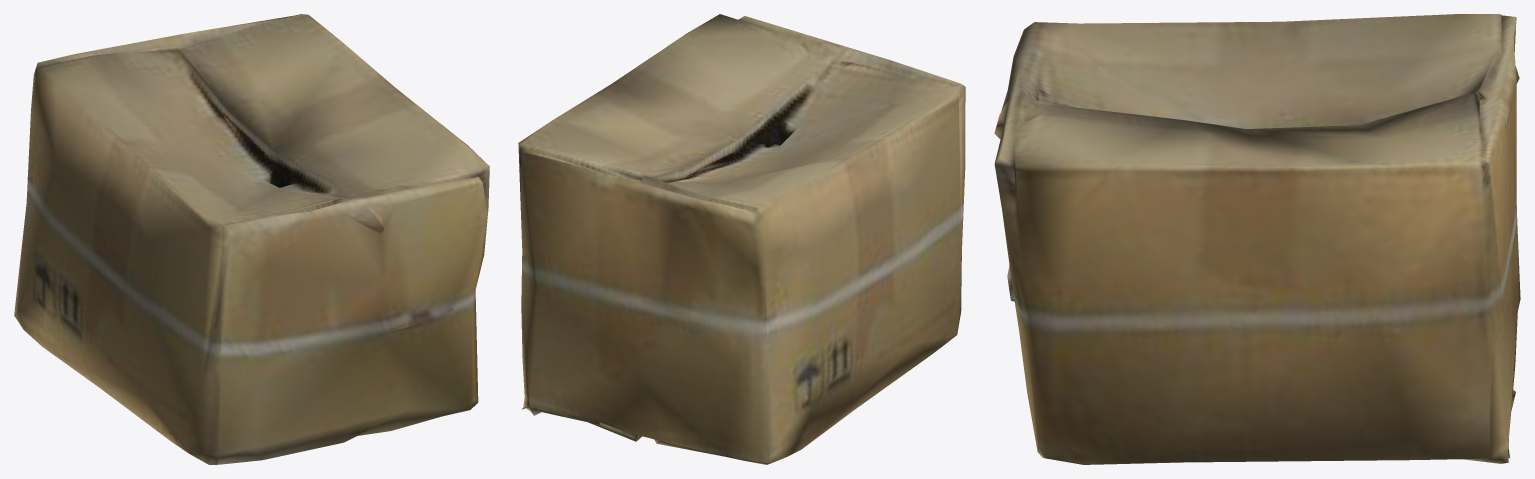
The model's file is cardboard.glb.
3 views of the same model, side by side, from view 1: azimuth 30°, elevation 25°; view 2: azimuth 150°, elevation 25°; view 3: azimuth 270°, elevation 25° (orthographic). The views are drawn at different scales.
Visible parts, largest first — view 1: cardboard; view 2: cardboard; view 3: cardboard.
Boxes of the visible parts, x1,y1,x2,y2 form: cardboard: (14,14,489,464); cardboard: (518,14,965,464); cardboard: (994,14,1520,464).
Bounding box in the file's own units: 0.384 × 0.3394 × 0.5152.
1 material, 1 textured.
